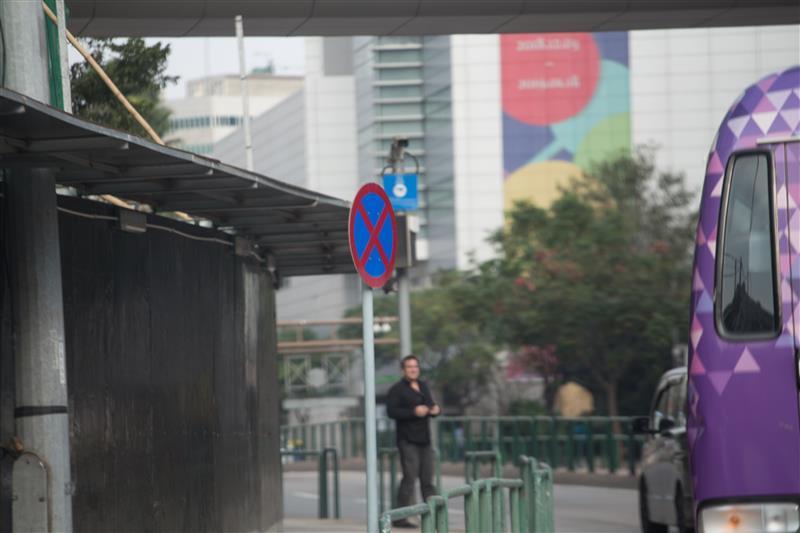noStopping: (345, 181, 399, 287)
